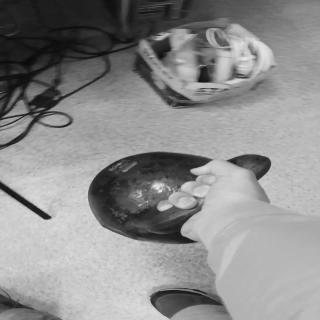kettlebell: (89, 152, 275, 245)
